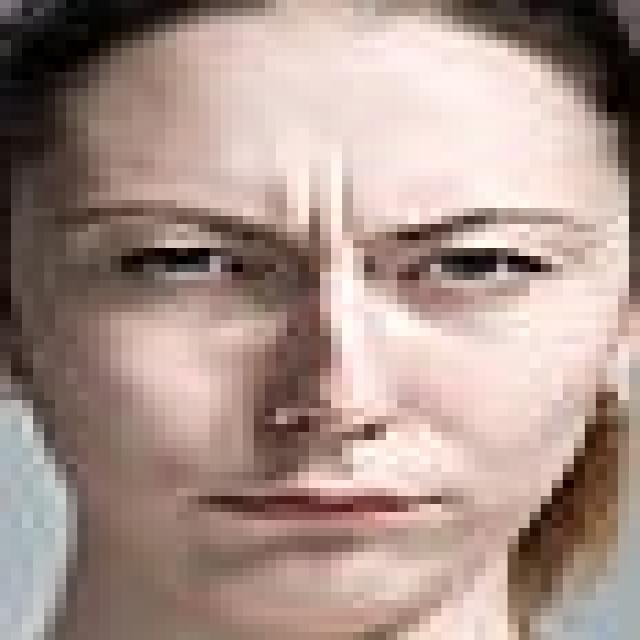Anxiety: (11, 7, 629, 632)
